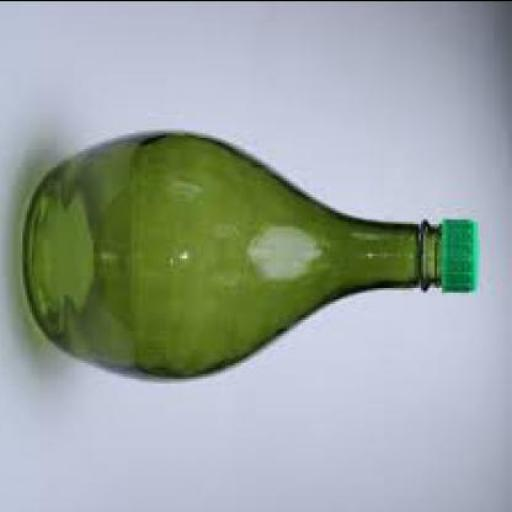glass: (25, 132, 441, 380)
plastic: (441, 221, 481, 293)
